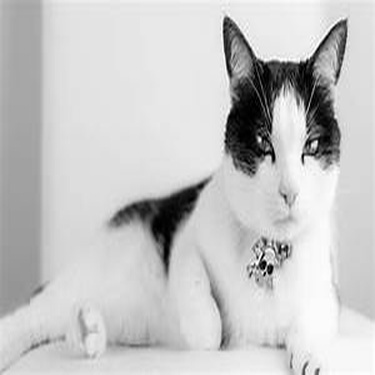cat: (1, 18, 351, 373)
